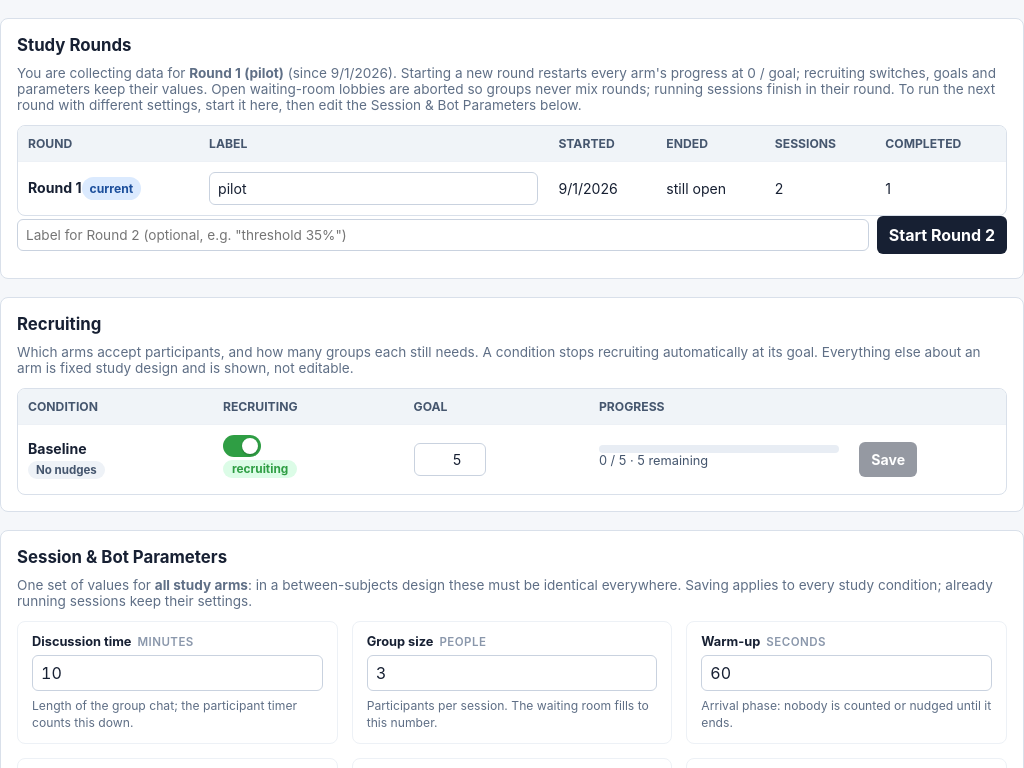
Test: Settings › starts the next round after an explicit confirmation
Type "  threshold 35%  " into the field labelled "Label for Round 2" at [443, 235], box [17,219,869,251]
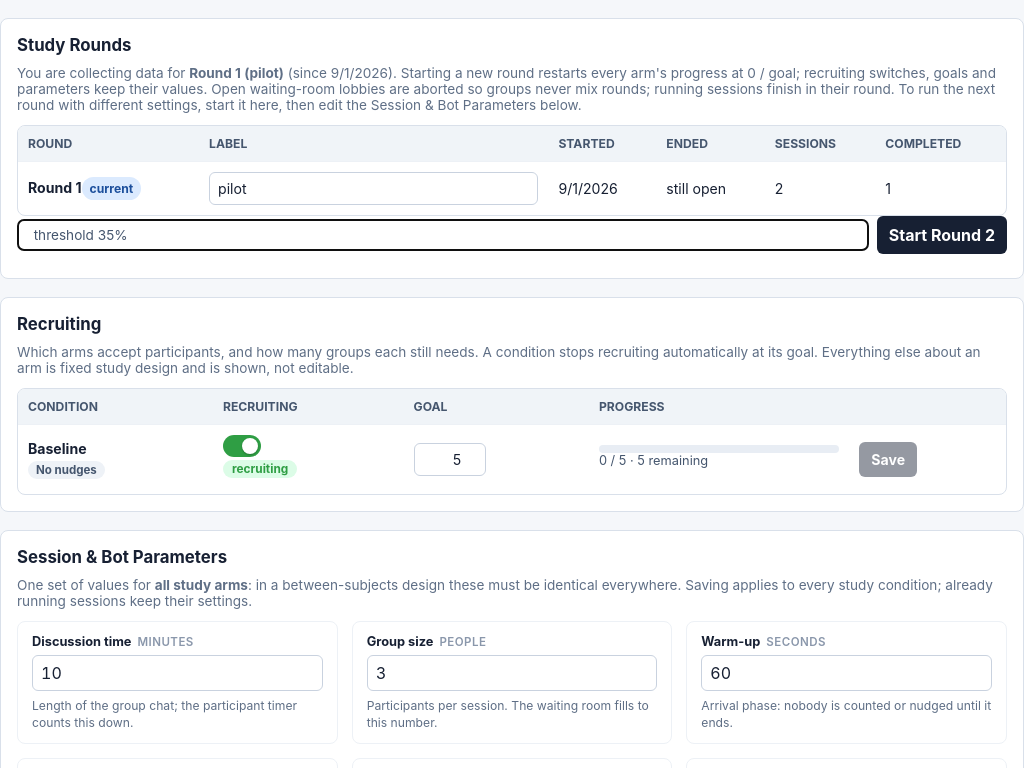
Click the button "Start Round 2" at [942, 235], box [877,216,1007,254]
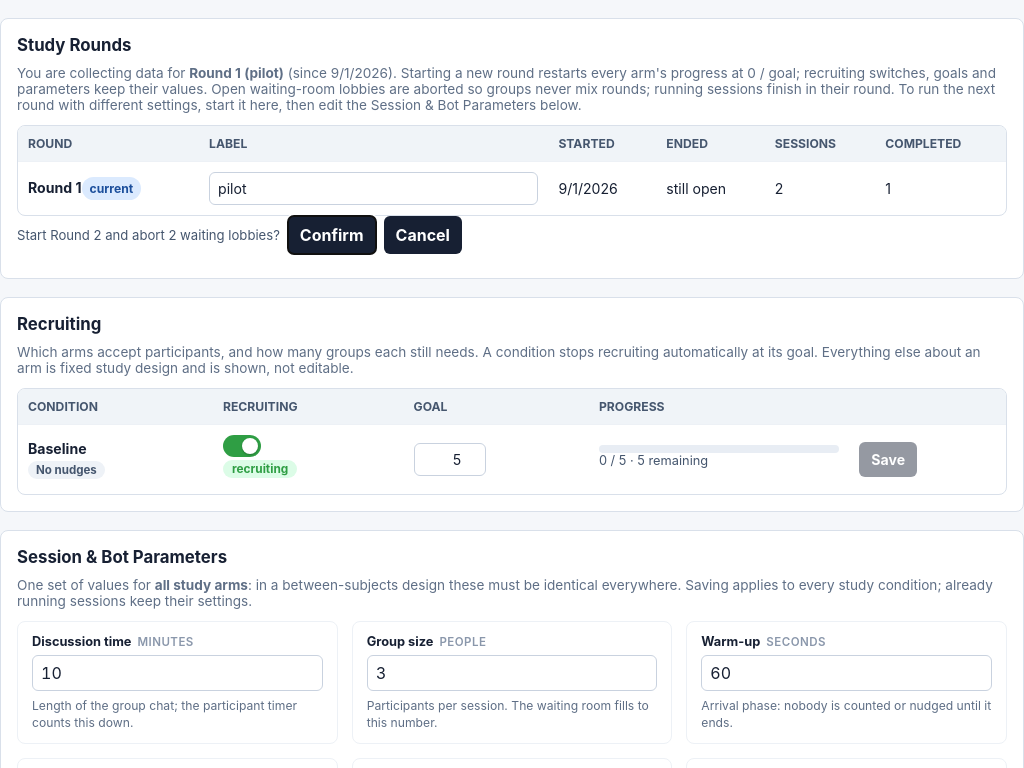
Expected: the text "Start Round 2 and abort 2 waiting lobbies?" is shown, [17,227,280,243]
Click the button "Cancel" at [423, 235], box [384,216,462,254]
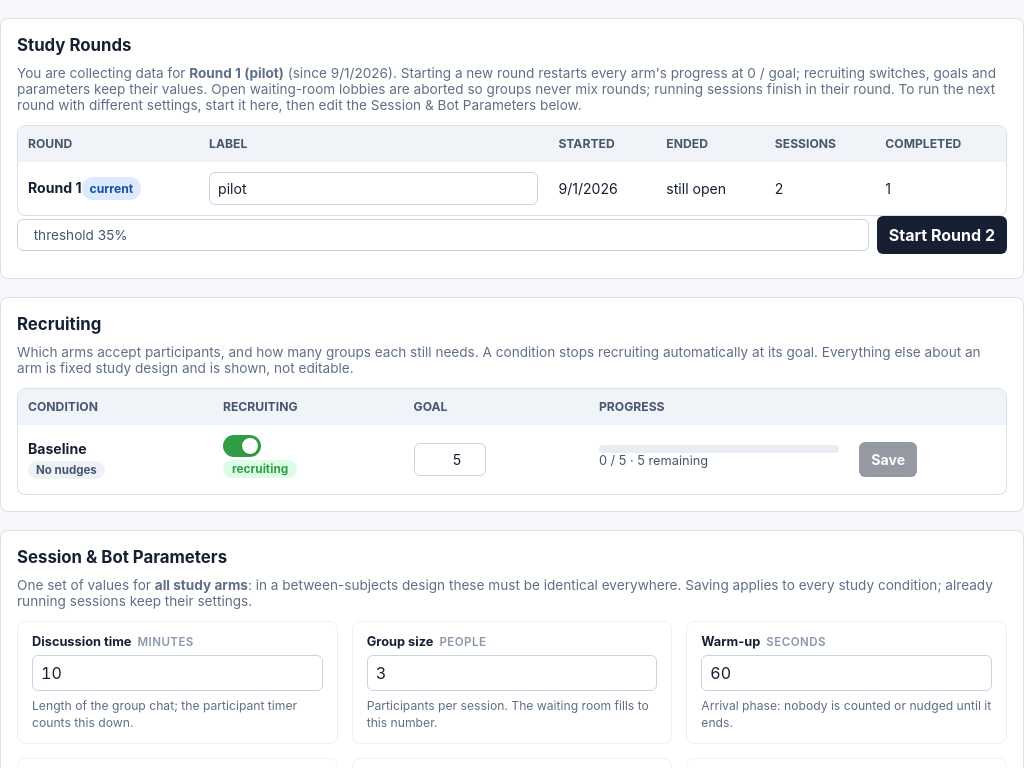
Expected: the text "abort 2 waiting" is gone
Click the button "Start Round 2" at [942, 235], box [877,216,1007,254]
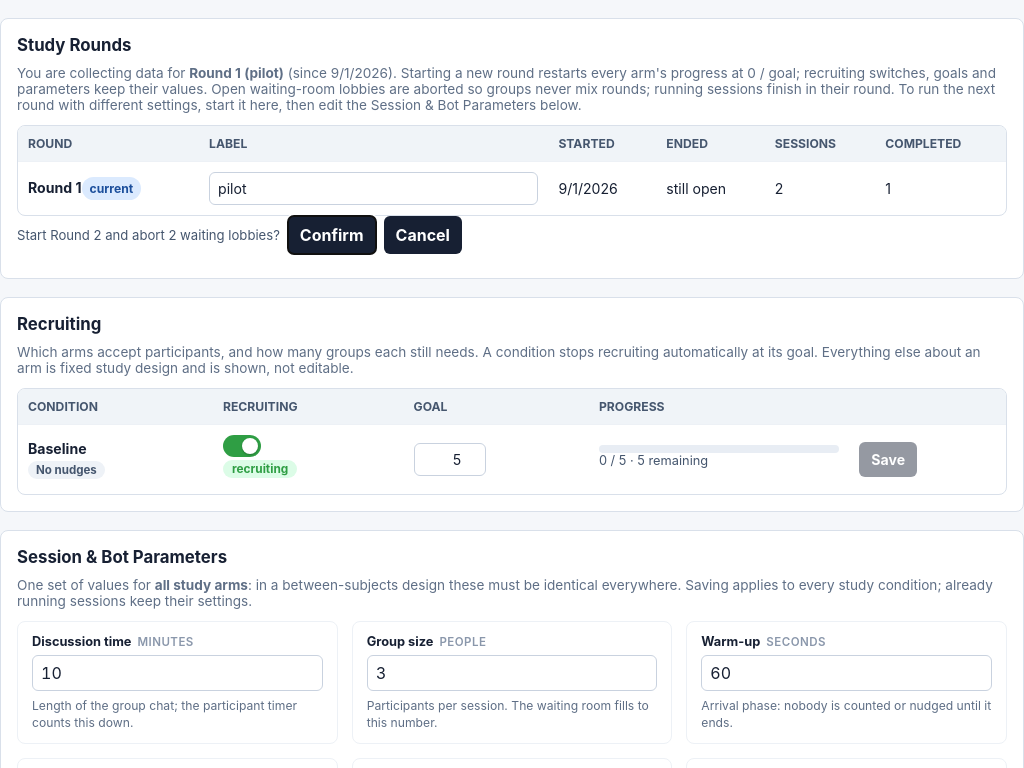
Click the button "Confirm" at [332, 235], box [288,216,376,254]
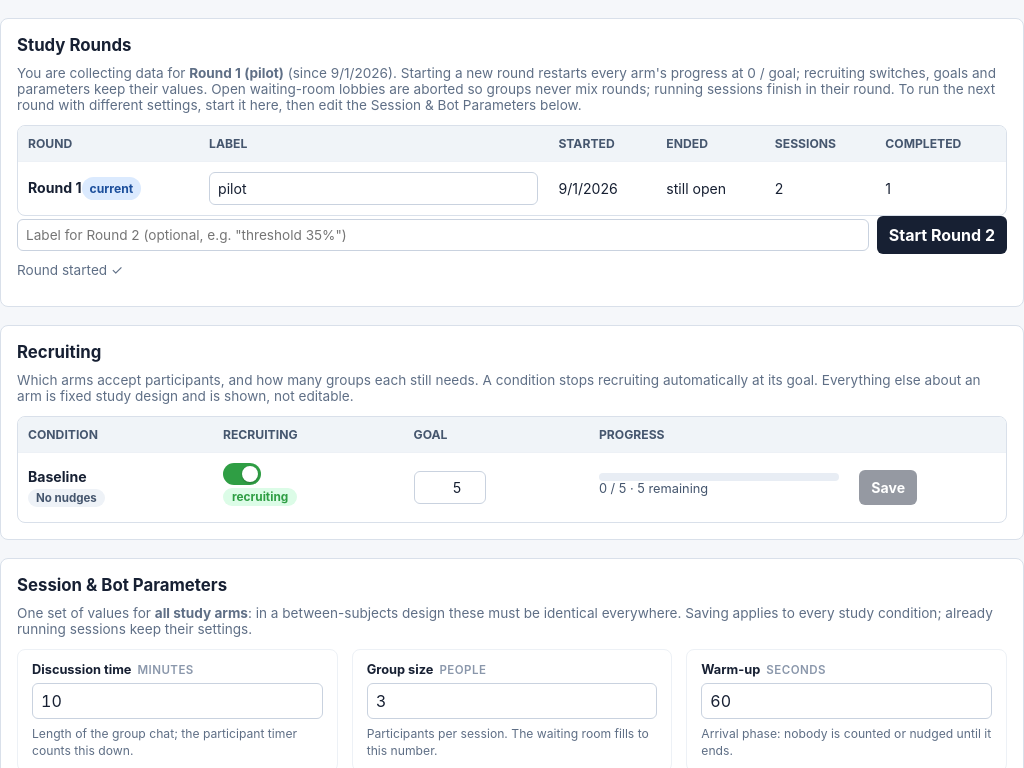
Expected: the text "Round started ✓" is shown, [17,262,123,278]
Expected: the field labelled "Label for Round 2" is empty, [17,219,869,251]
